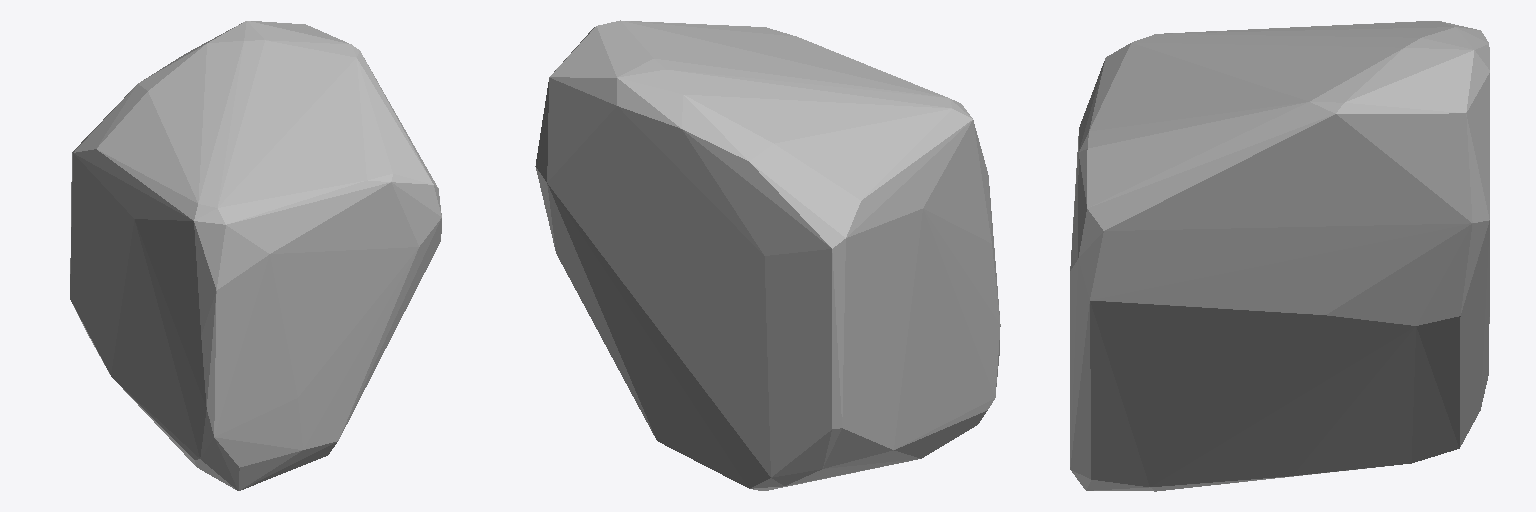
The robot description file, URDF, robot "root":
<robot name="root">
  <link name="link_rock10_convex_piece_0">
    <inertial>
      <origin rpy="0 0 0" xyz="0 0 0"/>
      <mass value="1.72E+06"/>
      <inertia ixx="3.91E+09" ixy="-7.51E+08" ixz="1.53E+09" iyy="3.10E+09" iyz="8.77E+08" izz="2.64E+09"/>
    </inertial>
    <visual>
      <origin rpy="0 0 0" xyz="0 0 0"/>
      <geometry>
        <mesh filename="rock10_convex_piece_0.obj" scale="1.0000E+00 1.0000E+00 1.0000E+00"/>
      </geometry>
      <material name="">
        <color rgba="7.50E-01 7.50E-01 7.50E-01 1"/>
      </material>
    </visual>
    <collision>
      <origin rpy="0 0 0" xyz="0 0 0"/>
      <geometry>
        <mesh filename="rock10_convex_piece_0.obj" scale="1.0000E+00 1.0000E+00 1.0000E+00"/>
      </geometry>
    </collision>
  </link>
</robot>

--- Render facts (derived) ---
3 views of the same robot in one strip: view 1: azimuth 30°, elevation 25°; view 2: azimuth 150°, elevation 25°; view 3: azimuth 270°, elevation 25° (orthographic).
Model root with 1 links and 0 joints (none), rooted at link_rock10_convex_piece_0, posed every joint at zero.
Links seen in each view (by area): view 1: link_rock10_convex_piece_0; view 2: link_rock10_convex_piece_0; view 3: link_rock10_convex_piece_0.
Link boxes in pixels (x1,y1,x2,y2): link_rock10_convex_piece_0: (70,21,441,490); link_rock10_convex_piece_0: (535,20,1000,490); link_rock10_convex_piece_0: (1070,21,1489,491).
Size in the robot's own frame: 126 by 129 by 170 metres.
Meshes: 1 distinct files referenced, 1 mesh visuals loaded (1 OBJ).
